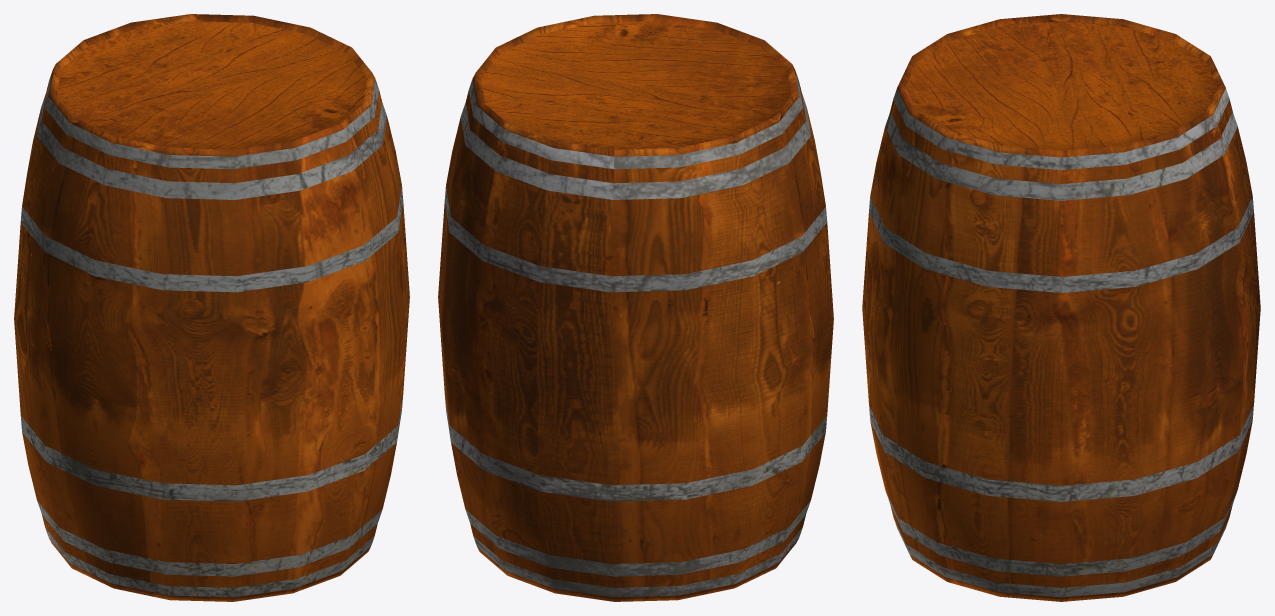
The model's file is Barrel.fbx.
3 renders of one model, left to right at view 1: azimuth 30°, elevation 25°; view 2: azimuth 150°, elevation 25°; view 3: azimuth 270°, elevation 25°, orthographic.
Parts seen in each view (by area): view 1: Barrel; view 2: Barrel; view 3: Barrel.
Part boxes in pixels (bbox=[...]): Barrel: bbox=[14, 14, 409, 601]; Barrel: bbox=[438, 14, 833, 601]; Barrel: bbox=[862, 14, 1260, 601].
Bounding box in the file's own units: 0.7112 × 0.889 × 0.7112.
